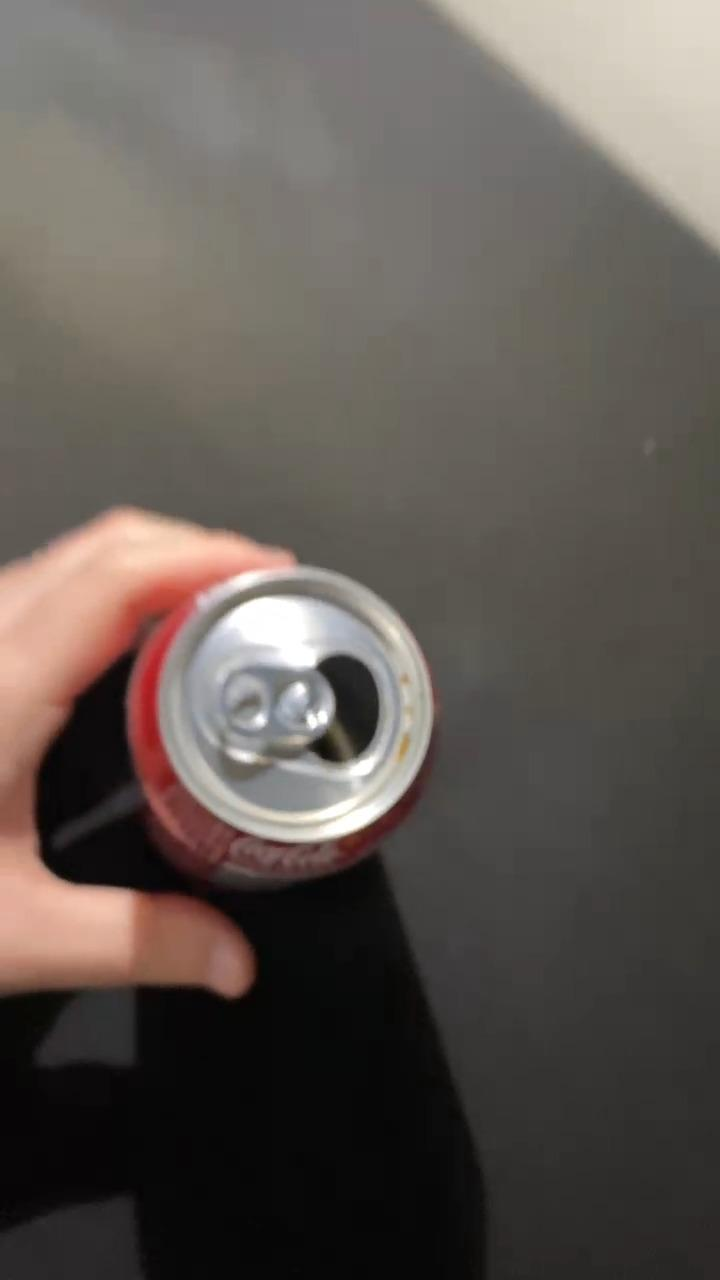coke: (124, 559, 443, 891)
